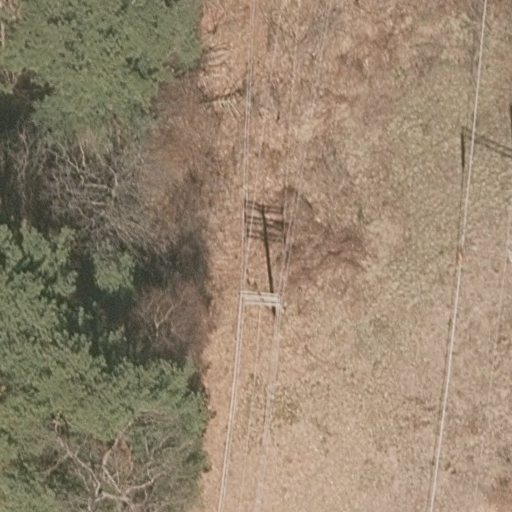DT: (238, 284, 284, 318)
